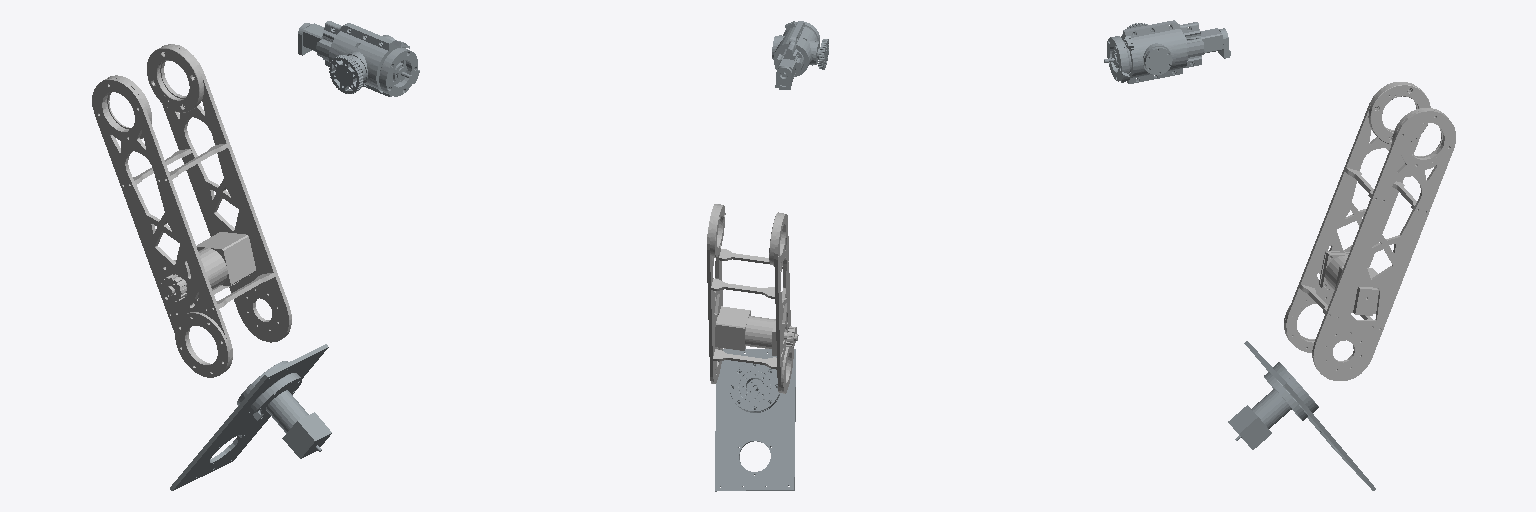
The robot description file, URDF, robot "arm1":
<?xml version="1.0" encoding="utf-8"?>
<!-- This URDF was automatically created by SolidWorks to URDF Exporter! Originally created by [author] ([email redacted]) 
     Commit Version: 1.6.0-4-g7f85cfe  Build Version: 1.6.7995.38578
     For more information, please see http://wiki.ros.org/sw_urdf_exporter -->
<robot
  name="arm1">
  <link
    name="base_link">
    <inertial>
      <origin
        xyz="-0.75118 -0.35506 0.6181"
        rpy="0 0 0" />
      <mass
        value="0.48809" />
      <inertia
        ixx="0.0015559"
        ixy="-0.00029123"
        ixz="-2.6469E-05"
        iyy="0.0011495"
        iyz="-0.00059278"
        izz="0.0016056" />
    </inertial>
    <visual>
      <origin
        xyz="0 0 0"
        rpy="0 0 0" />
      <geometry>
        <mesh
          filename="package://arm1/meshes/base_link.STL" />
      </geometry>
      <material
        name="">
        <color
          rgba="0.62745 0.65882 0.67843 1" />
      </material>
    </visual>
    <collision>
      <origin
        xyz="0 0 0"
        rpy="0 0 0" />
      <geometry>
        <mesh
          filename="package://arm1/meshes/base_link.STL" />
      </geometry>
    </collision>
  </link>
  <link
    name="link_turntable">
    <inertial>
      <origin
        xyz="-0.025587 -0.012115 0.041225"
        rpy="0 0 0" />
      <mass
        value="0.83487" />
      <inertia
        ixx="0.00094597"
        ixy="-4.0179E-05"
        ixz="-5.1927E-05"
        iyy="0.0010583"
        iyz="4.635E-06"
        izz="0.00071889" />
    </inertial>
    <visual>
      <origin
        xyz="0 0 0"
        rpy="0 0 0" />
      <geometry>
        <mesh
          filename="package://arm1/meshes/link_turntable.STL" />
      </geometry>
      <material
        name="">
        <color
          rgba="0.89804 0.91765 0.92941 1" />
      </material>
    </visual>
    <collision>
      <origin
        xyz="0 0 0"
        rpy="0 0 0" />
      <geometry>
        <mesh
          filename="package://arm1/meshes/link_turntable.STL" />
      </geometry>
    </collision>
  </link>
  <joint
    name="joint_turntable"
    type="continuous">
    <origin
      xyz="-0.75729581407264 -0.598615888399153 -0.307790852884674"
      rpy="0 0 -1.5707963267949" />
    <parent
      link="base_link" />
    <child
      link="link_turntable" />
    <axis
      xyz="0.751654206505026 0.300853226584914 -0.586944026204157" />
  </joint>
  <link
    name="link_axis1">
    <inertial>
      <origin
        xyz="-0.026363 -0.11844 0.13898"
        rpy="0 0 0" />
      <mass
        value="1.2075" />
      <inertia
        ixx="0.0099183"
        ixy="-0.00074072"
        ixz="0.0031258"
        iyy="0.011079"
        iyz="0.0016509"
        izz="0.00304" />
    </inertial>
    <visual>
      <origin
        xyz="0 0 0"
        rpy="0 0 0" />
      <geometry>
        <mesh
          filename="package://arm1/meshes/link_axis1.STL" />
      </geometry>
      <material
        name="">
        <color
          rgba="0.75294 0.75294 0.75294 1" />
      </material>
    </visual>
    <collision>
      <origin
        xyz="0 0 0"
        rpy="0 0 0" />
      <geometry>
        <mesh
          filename="package://arm1/meshes/link_axis1.STL" />
      </geometry>
    </collision>
  </link>
  <joint
    name="joint_axis1"
    type="continuous">
    <origin
      xyz="-0.0655207637557417 0.0577180534779368 0.0734579500015488"
      rpy="0 0 0" />
    <parent
      link="link_turntable" />
    <child
      link="link_axis1" />
    <axis
      xyz="0.328543830326874 -0.942430072702363 -0.0623258342933837" />
  </joint>
  <link
    name="link_axis2">
    <inertial>
      <origin
        xyz="0.0120616928967049 -0.0575161563291976 0.00362961179898152"
        rpy="0 0 0" />
      <mass
        value="0.50949002444583" />
      <inertia
        ixx="0.000489832647698887"
        ixy="7.26871784681246E-05"
        ixz="-9.41603824346971E-06"
        iyy="0.000311727928592659"
        iyz="-2.03565135651366E-05"
        izz="0.000545866848612843" />
    </inertial>
    <visual>
      <origin
        xyz="0 0 0"
        rpy="0 0 0" />
      <geometry>
        <mesh
          filename="package://arm1/meshes/link_axis2.STL" />
      </geometry>
      <material
        name="">
        <color
          rgba="0.752941176470588 0.752941176470588 0.752941176470588 1" />
      </material>
    </visual>
    <collision>
      <origin
        xyz="0 0 0"
        rpy="0 0 0" />
      <geometry>
        <mesh
          filename="package://arm1/meshes/link_axis2.STL" />
      </geometry>
    </collision>
  </link>
  <joint
    name="joint_axis2"
    type="continuous">
    <origin
      xyz="-0.119315742016965 -0.0911363032403798 0.328341244367117"
      rpy="0 0 0" />
    <parent
      link="link_axis1" />
    <child
      link="link_axis2" />
    <axis
      xyz="0.328543830326874 -0.942430072702362 -0.062325834293384" />
  </joint>
  <link
    name="link_axis3">
    <inertial>
      <origin
        xyz="0.213335533760281 0.0695601801859741 0.098443768367438"
        rpy="0 0 0" />
      <mass
        value="0.881583524101265" />
      <inertia
        ixx="0.00207559183419843"
        ixy="-0.000914107654223854"
        ixz="-0.00138374507363724"
        iyy="0.00468849837599157"
        iyz="-0.000446845064746683"
        izz="0.00446997979885745" />
    </inertial>
    <visual>
      <origin
        xyz="0 0 0"
        rpy="0 0 0" />
      <geometry>
        <mesh
          filename="package://arm1/meshes/link_axis3.STL" />
      </geometry>
      <material
        name="">
        <color
          rgba="0.627450980392157 0.658823529411765 0.67843137254902 1" />
      </material>
    </visual>
    <collision>
      <origin
        xyz="0 0 0"
        rpy="0 0 0" />
      <geometry>
        <mesh
          filename="package://arm1/meshes/link_axis3.STL" />
      </geometry>
    </collision>
  </link>
  <joint
    name="joint_axis3"
    type="continuous">
    <origin
      xyz="0.018218 -0.048216 -0.0027262"
      rpy="0 0 0" />
    <parent
      link="link_axis2" />
    <child
      link="link_axis3" />
    <axis
      xyz="-0.87281 -0.27773 -0.40132" />
  </joint>
  <link
    name="link_axis4">
    <inertial>
      <origin
        xyz="2.21515842878661E-05 -0.0468597309294064 -0.00242519114267015"
        rpy="0 0 0" />
      <mass
        value="0.39169705426019" />
      <inertia
        ixx="0.000306613917411435"
        ixy="-5.47499906973088E-05"
        ixz="8.55743025528078E-06"
        iyy="0.000454493934676782"
        iyz="2.29987326931141E-06"
        izz="0.000482222947756292" />
    </inertial>
    <visual>
      <origin
        xyz="0 0 0"
        rpy="0 0 0" />
      <geometry>
        <mesh
          filename="package://arm1/meshes/link_axis4.STL" />
      </geometry>
      <material
        name="">
        <color
          rgba="0.627450980392157 0.658823529411765 0.67843137254902 1" />
      </material>
    </visual>
    <collision>
      <origin
        xyz="0 0 0"
        rpy="0 0 0" />
      <geometry>
        <mesh
          filename="package://arm1/meshes/link_axis4.STL" />
      </geometry>
    </collision>
  </link>
  <joint
    name="joint_axis4"
    type="continuous">
    <origin
      xyz="0.39197 0.16869 0.18931"
      rpy="0 0 0" />
    <parent
      link="link_axis3" />
    <child
      link="link_axis4" />
    <axis
      xyz="0.3295 -0.94193 -0.064754" />
  </joint>
  <link
    name="link_ender">
    <inertial>
      <origin
        xyz="-0.0362253408744452 -0.0127905539174791 0.00171737280923212"
        rpy="0 0 0" />
      <mass
        value="0.0496523692311761" />
      <inertia
        ixx="7.69610493253832E-06"
        ixy="-5.82800269092538E-06"
        ixz="7.8745024704373E-07"
        iyy="2.21461021933751E-05"
        iyz="2.77743045115595E-07"
        izz="2.41638018238003E-05" />
    </inertial>
    <visual>
      <origin
        xyz="0 0 0"
        rpy="0 0 0" />
      <geometry>
        <mesh
          filename="package://arm1/meshes/link_ender.STL" />
      </geometry>
      <material
        name="">
        <color
          rgba="0.627450980392157 0.658823529411765 0.67843137254902 1" />
      </material>
    </visual>
    <collision>
      <origin
        xyz="0 0 0"
        rpy="0 0 0" />
      <geometry>
        <mesh
          filename="package://arm1/meshes/link_ender.STL" />
      </geometry>
    </collision>
  </link>
  <joint
    name="joint_ender"
    type="continuous">
    <origin
      xyz="0.069889 -0.019771 -0.0053796"
      rpy="0 0 0" />
    <parent
      link="link_axis4" />
    <child
      link="link_ender" />
    <axis
      xyz="-0.94201 -0.3326 0.044705" />
  </joint>
</robot>

--- Facts derived from the render (not from the file) ---
Views: 3 orthographic renders of the robot side by side, from view 1: azimuth 30°, elevation 25°; view 2: azimuth 150°, elevation 25°; view 3: azimuth 270°, elevation 25°.
Model arm1 with 7 links and 6 joints (6 continuous), rooted at base_link, posed every joint at zero.
Links seen in each view (by area): view 1: link_axis1, base_link, link_axis4; view 2: base_link, link_axis1, link_axis4; view 3: link_axis1, link_axis4, base_link.
Boxes of the visible links, bbox=[...] form: link_axis1: bbox=[92, 44, 291, 377]; base_link: bbox=[170, 344, 331, 490]; link_axis4: bbox=[298, 21, 419, 96]; base_link: bbox=[715, 349, 795, 491]; link_axis1: bbox=[707, 204, 798, 393]; link_axis4: bbox=[772, 21, 828, 89]; link_axis1: bbox=[1284, 82, 1455, 380]; link_axis4: bbox=[1107, 20, 1230, 83]; base_link: bbox=[1228, 341, 1375, 490].
Bounding box of the posed robot: 0.267 × 0.5485 × 0.8117 m (x, y, z).
4 mesh visuals loaded from 7 distinct referenced files (4 binary STL); not drawn: 3 (reference not matched to a file when rendering).